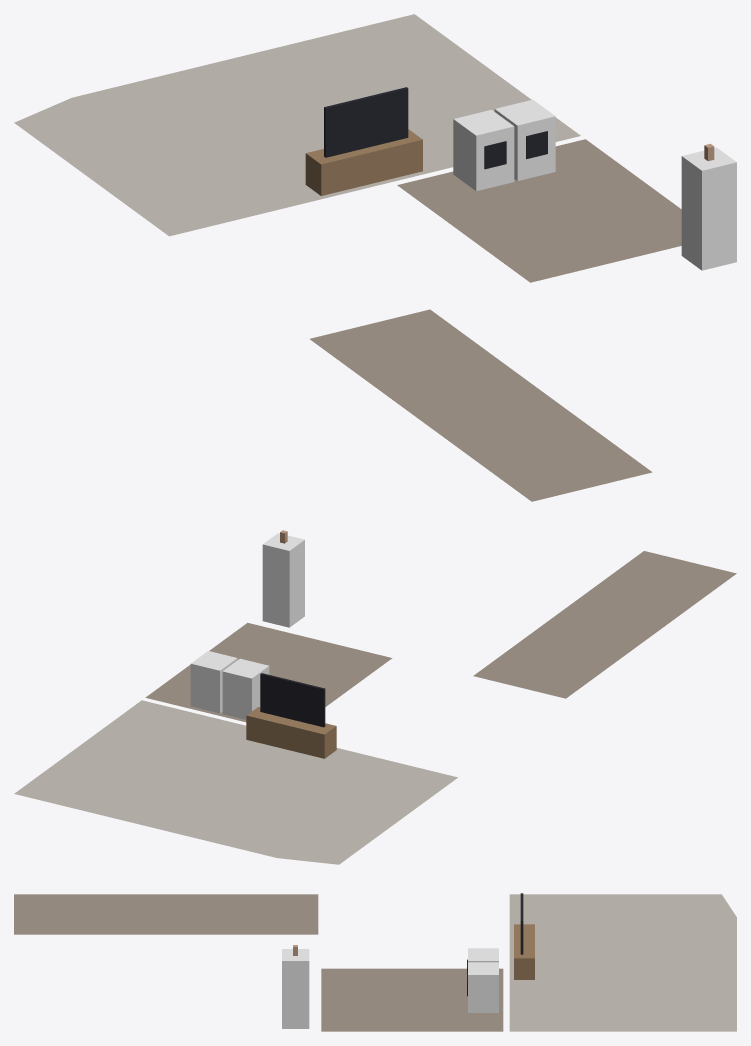
The model's file is fine-s0.glb.
3 views of the same model, one above another, from view 1: azimuth 30°, elevation 25°; view 2: azimuth 150°, elevation 25°; view 3: azimuth 270°, elevation 25° (orthographic). The views are drawn at different scales.
Parts seen in each view (by area): view 1: soft-s0, tv-console.000, water-heater.000, washer.000, washer.001; view 2: soft-s0, tv-console.000, water-heater.000, washer.000, washer.001; view 3: soft-s0, water-heater.000, washer.001, tv-console.000, washer.000.
Part boxes in pixels (box(x1,y1,x2,y2)): soft-s0: box(14, 14, 681, 501); tv-console.000: box(305, 87, 422, 195); water-heater.000: box(681, 143, 736, 270); washer.000: box(453, 110, 514, 191); washer.001: box(494, 99, 555, 180); soft-s0: box(14, 551, 736, 864); tv-console.000: box(246, 673, 336, 758); water-heater.000: box(262, 530, 304, 627); washer.000: box(222, 658, 269, 719); washer.001: box(190, 651, 237, 713); soft-s0: box(14, 894, 736, 1031); water-heater.000: box(282, 945, 309, 1028); washer.001: box(467, 962, 498, 1012); tv-console.000: box(514, 893, 534, 979); washer.000: box(467, 948, 498, 973).
Bounding box in the file's own units: 6.48 × 1.7 × 14.4.
